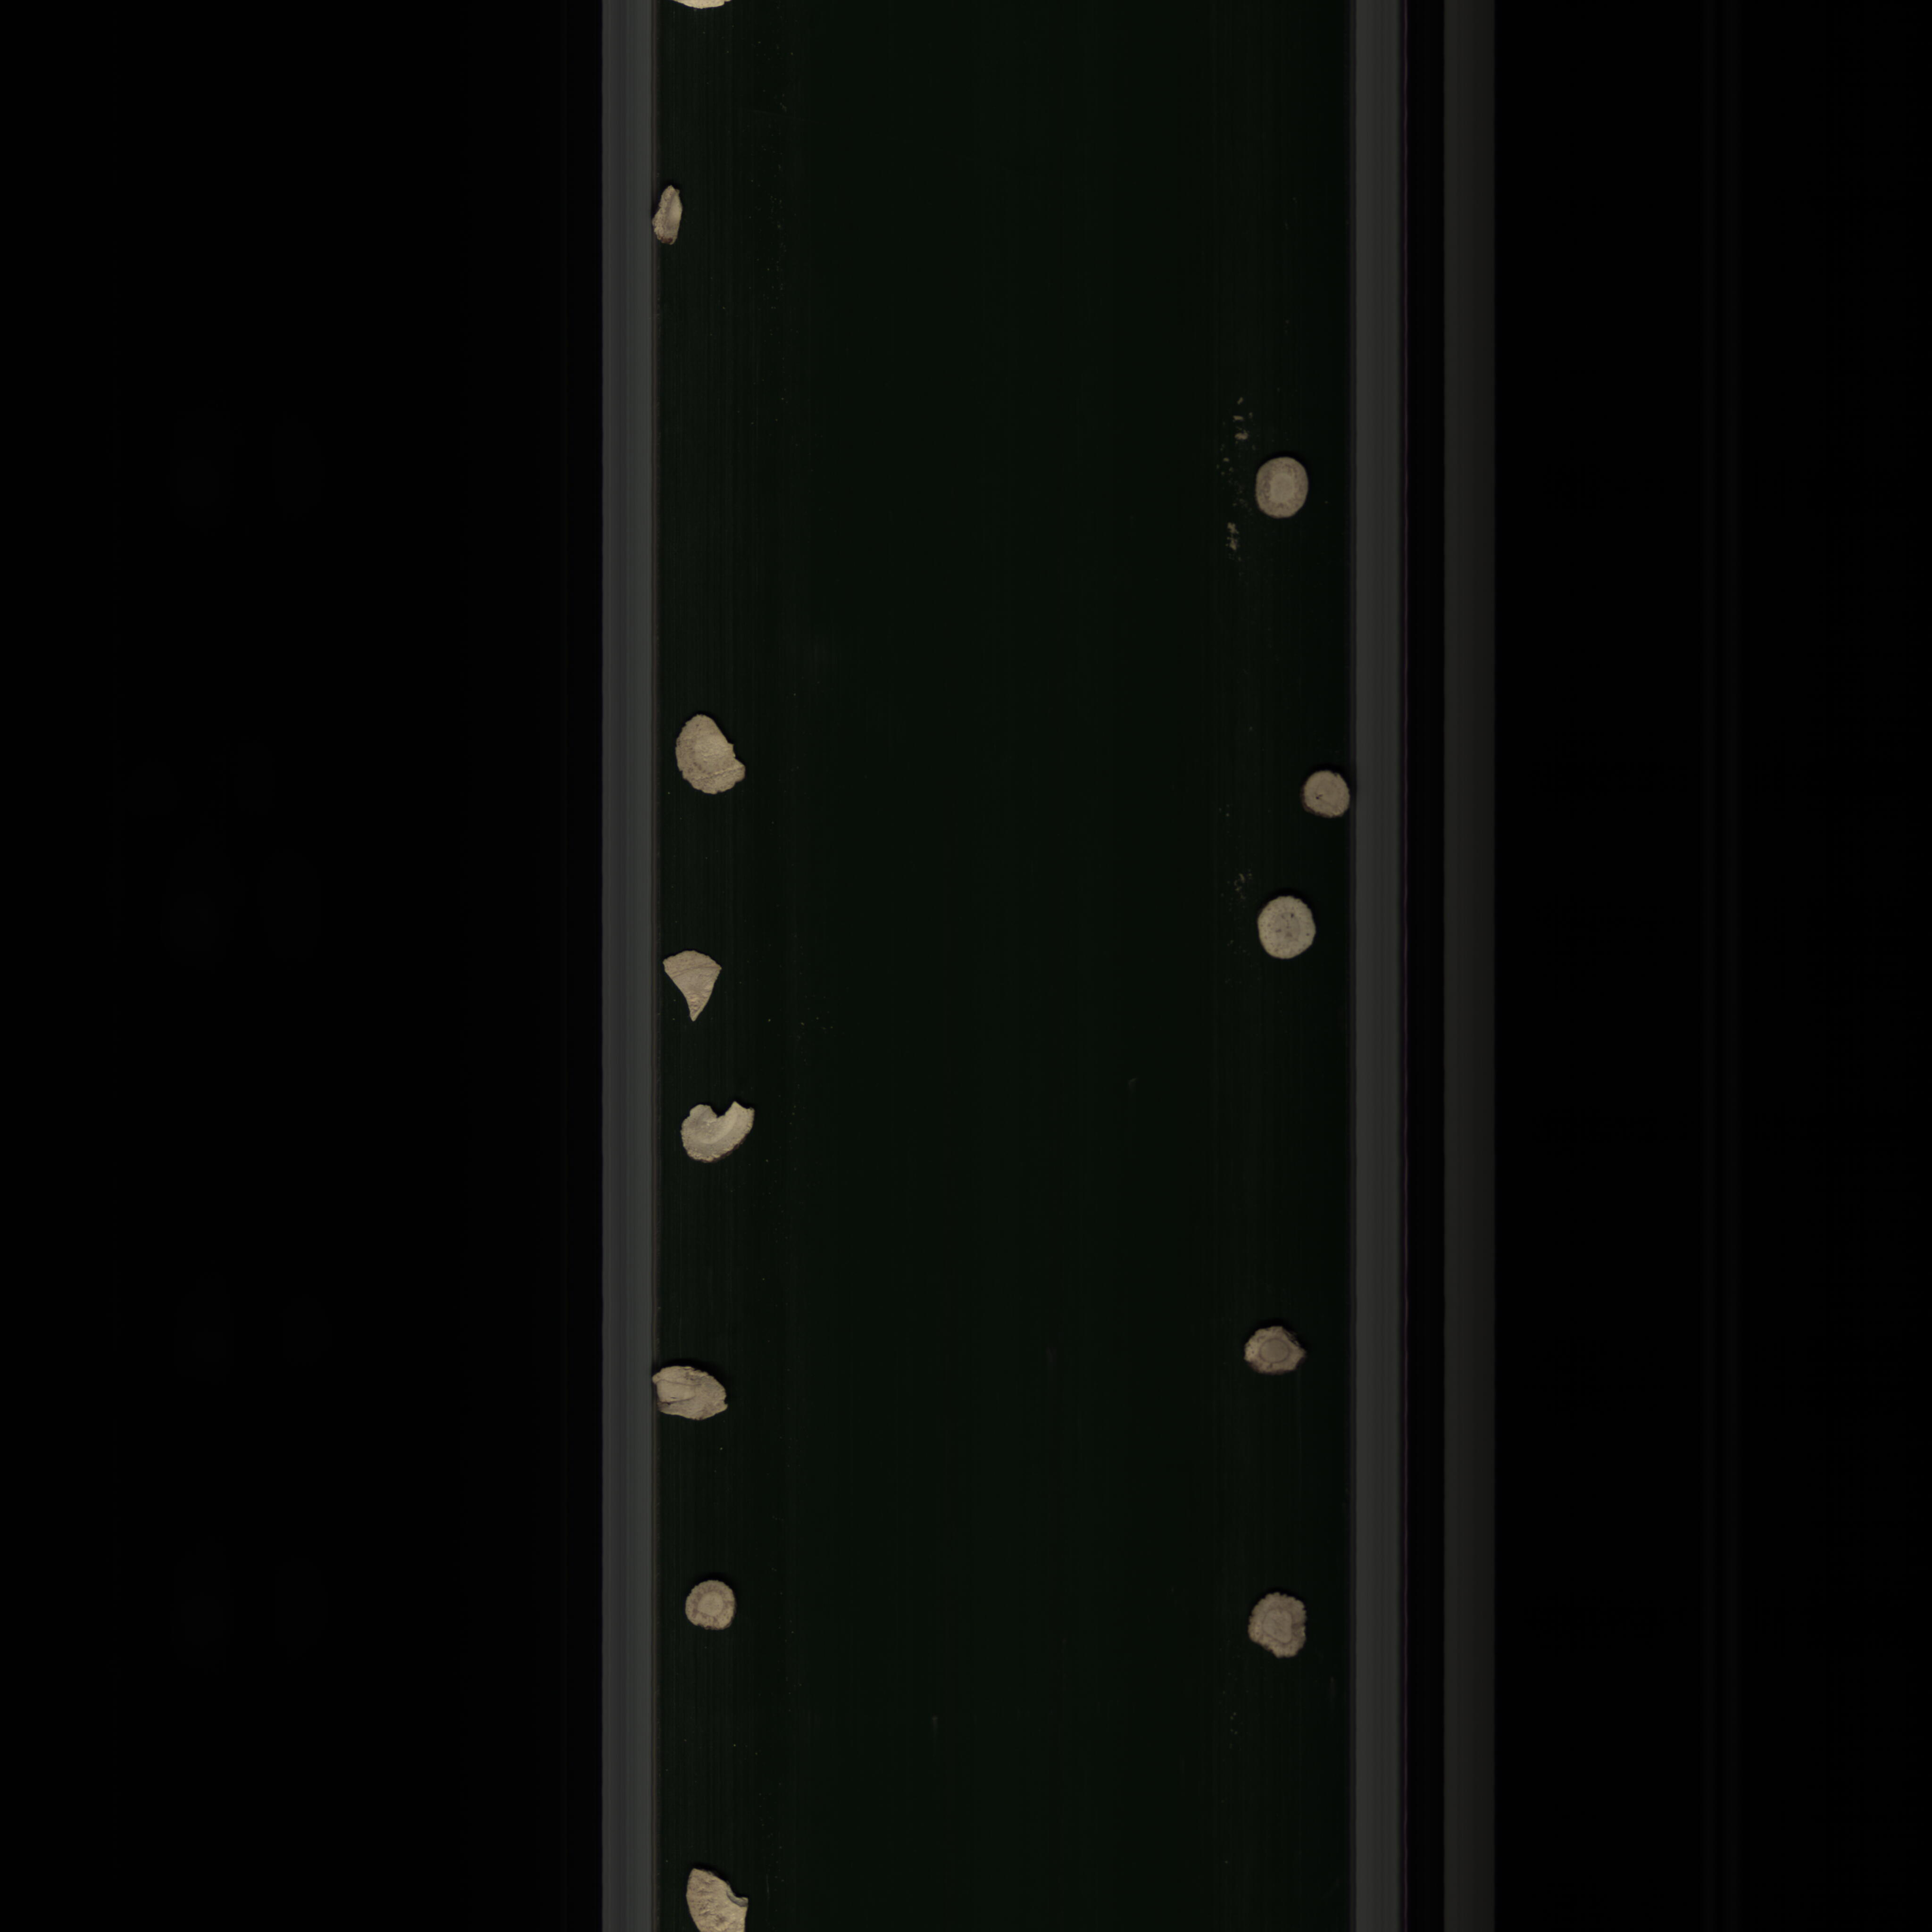debris: (676, 708, 754, 798), (651, 947, 727, 1033), (676, 1095, 763, 1171), (642, 1366, 741, 1430)
moldy: (1231, 1313, 1318, 1384), (651, 182, 685, 253)
